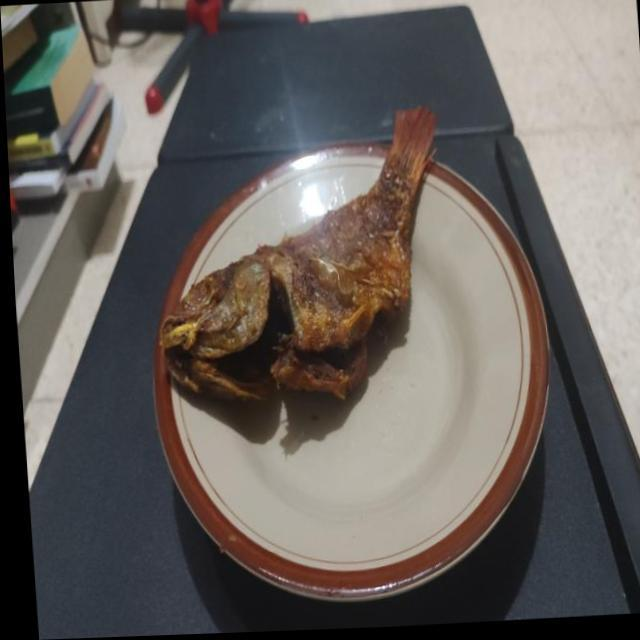ikan_mujair: (160, 106, 435, 399)
